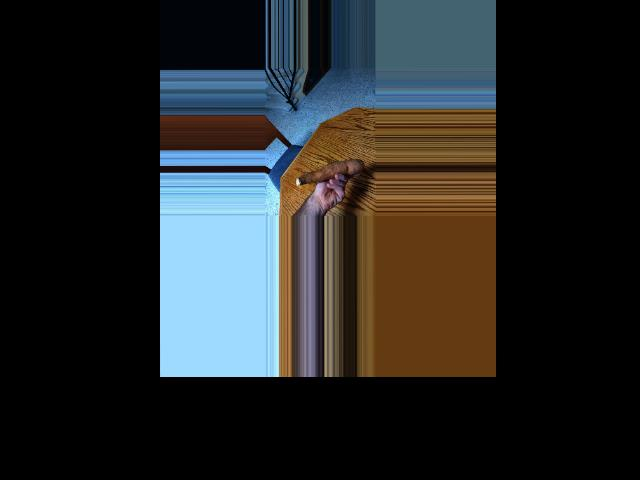sweet_potato: (294, 156, 362, 188)
